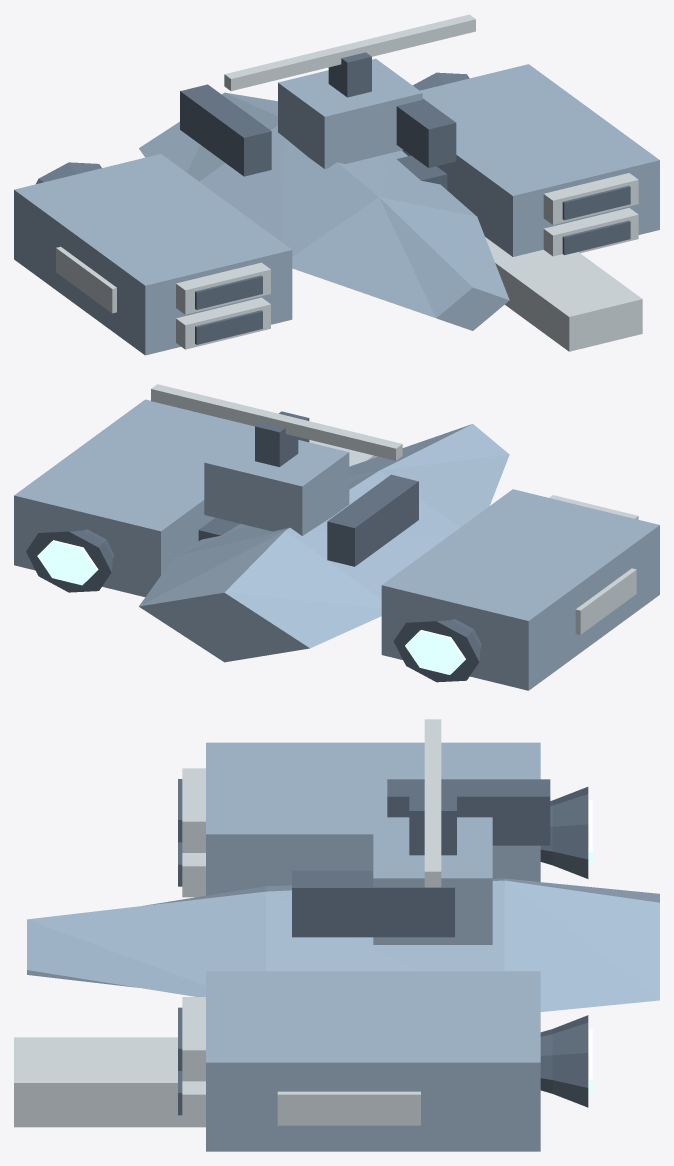
The picture shows the model from 3 angles, top to bottom: view 1: azimuth 30°, elevation 25°; view 2: azimuth 150°, elevation 25°; view 3: azimuth 270°, elevation 25°; orthographic projection. The views are drawn at different scales.
Size of the model in its own units: 11.36 by 4.1 by 9.51.
